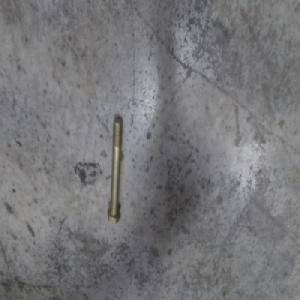Bolt: (107, 117, 125, 228)
